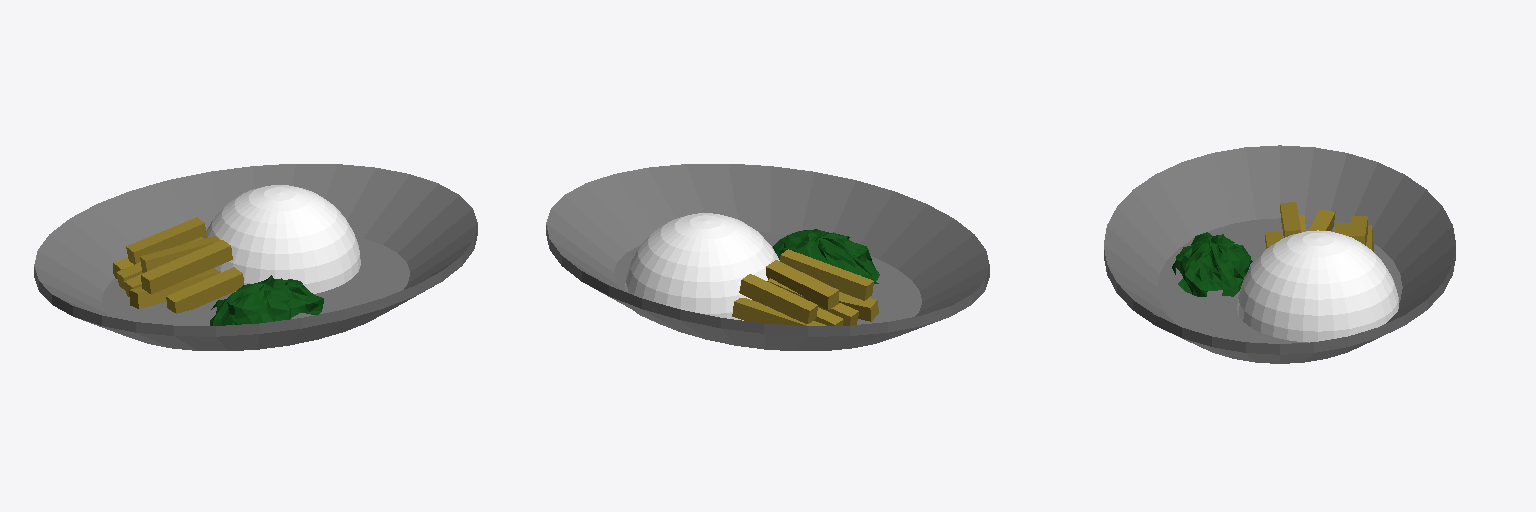
File: rice2_meat3_veg1.obj
The picture shows the model from 3 angles: view 1: azimuth 30°, elevation 25°; view 2: azimuth 150°, elevation 25°; view 3: azimuth 270°, elevation 25°; orthographic projection.
Visible parts, largest first — view 1: Cylinder, Sphere, Sphere.001, Cube.007, Cube.004_Cube.005, Cube.005_Cube.000, Cube.002_Cube.003, Cube.006; view 2: Cylinder, Sphere, Sphere.001, Cube.007, Cube.005_Cube.000, Cube.006, Cube.003_Cube.004, Cube.002_Cube.003, Cube.001_Cube.002; view 3: Cylinder, Sphere, Sphere.001, Cube.007.
Boxes of the visible parts, x1,y1,x2,y2 form: Cylinder: [34, 164, 477, 350]; Sphere: [204, 185, 360, 293]; Sphere.001: [210, 275, 323, 325]; Cube.007: [141, 240, 232, 294]; Cube.004_Cube.005: [166, 267, 243, 313]; Cube.005_Cube.000: [126, 217, 206, 264]; Cube.002_Cube.003: [129, 268, 220, 308]; Cube.006: [140, 236, 219, 272]; Cylinder: [546, 164, 989, 350]; Sphere: [625, 213, 779, 321]; Sphere.001: [773, 229, 879, 283]; Cube.007: [780, 249, 873, 300]; Cube.005_Cube.000: [739, 274, 817, 323]; Cube.006: [766, 260, 838, 309]; Cube.003_Cube.004: [732, 298, 826, 325]; Cube.002_Cube.003: [839, 292, 878, 321]; Cube.001_Cube.002: [767, 278, 858, 325]; Cylinder: [1104, 145, 1455, 363]; Sphere: [1237, 230, 1398, 342]; Sphere.001: [1172, 232, 1252, 296]; Cube.007: [1280, 202, 1300, 237].
Bounding box in the file's own units: 5.75 × 1.05 × 4.31.